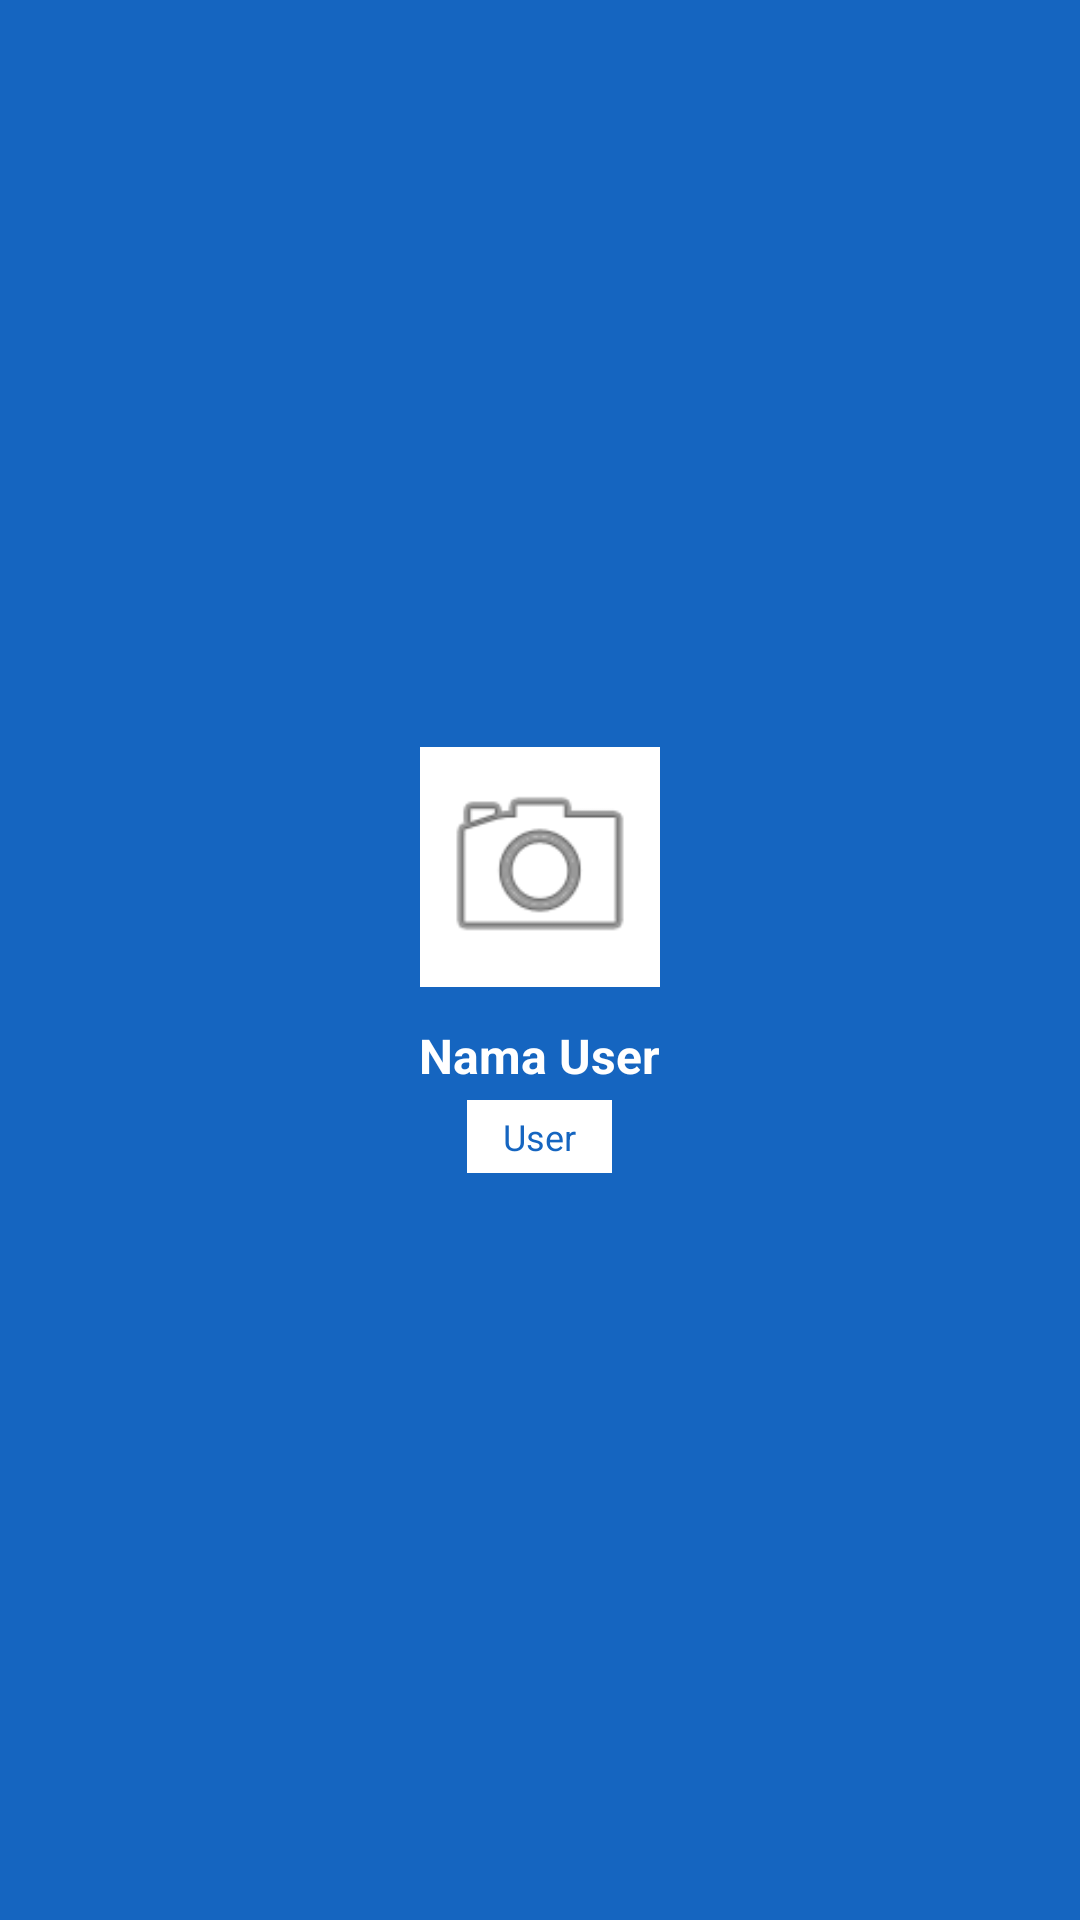

Where icons sit on this 1080×1920 app screen, as (x1, y1, x2, y2):
camera: (420, 747, 660, 987)
